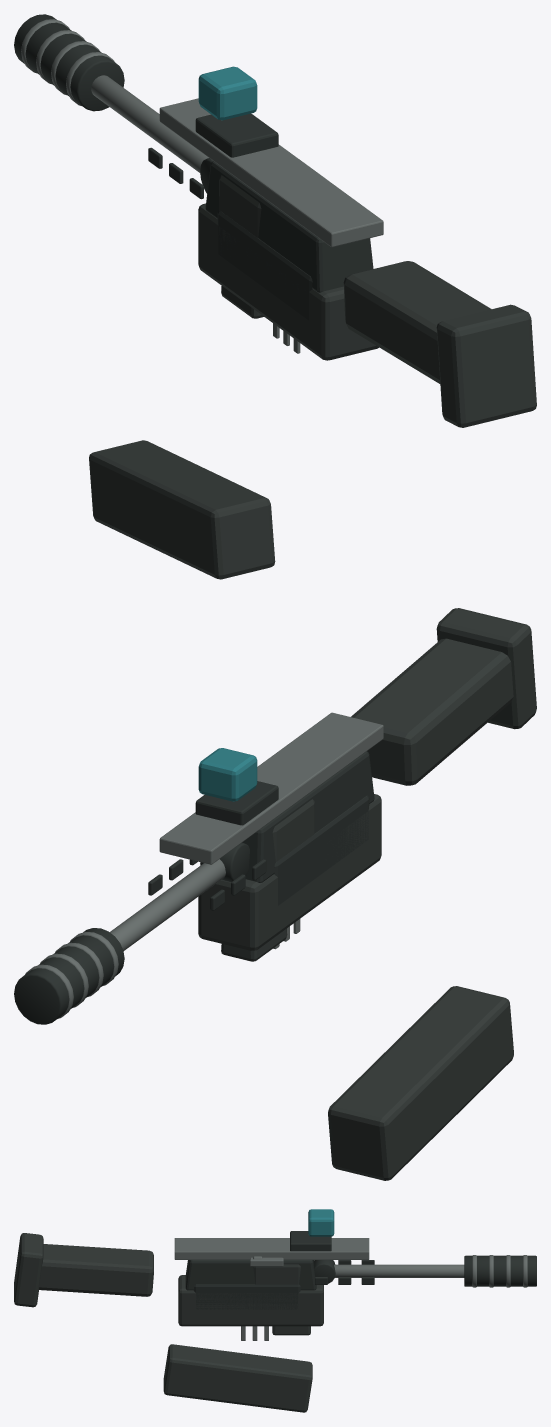
The picture shows the model from 3 angles, top to bottom: view 1: azimuth 30°, elevation 25°; view 2: azimuth 150°, elevation 25°; view 3: azimuth 270°, elevation 25°; orthographic projection. The views are drawn at different scales.
Visible parts, largest first — view 1: SpareMagazineBody, StockButt, StockBody, TopRail, MagazineBody, UpperReceiver, SuppressorBody, LowerReceiver, Barrel, OpticGlass, OpticRiser, Handguard; view 2: SpareMagazineBody, StockBody, TopRail, MagazineBody, SuppressorBody, StockButt, LowerReceiver, UpperReceiver, Barrel, OpticGlass, OpticRiser, Handguard (+2 smaller); view 3: SpareMagazineBody, StockBody, MagazineBody, TopRail, LowerReceiver, UpperReceiver, SuppressorBody, StockButt, Barrel, Handguard, OpticRiser, OpticGlass (+3 smaller).
Boxes of the visible parts, <box> form: SpareMagazineBody: <box>89,440,275,579</box>; StockButt: <box>436,304,536,427</box>; StockBody: <box>343,261,491,383</box>; TopRail: <box>159,98,383,247</box>; MagazineBody: <box>198,203,378,360</box>; UpperReceiver: <box>205,161,373,292</box>; SuppressorBody: <box>14,14,124,111</box>; LowerReceiver: <box>217,210,312,320</box>; Barrel: <box>91,75,208,172</box>; OpticGlass: <box>198,66,257,120</box>; OpticRiser: <box>195,113,278,157</box>; Handguard: <box>219,175,261,237</box>; SpareMagazineBody: <box>328,986,513,1180</box>; StockBody: <box>351,638,513,785</box>; TopRail: <box>159,712,383,864</box>; MagazineBody: <box>198,794,381,950</box>; SuppressorBody: <box>14,928,124,1024</box>; StockButt: <box>436,608,536,729</box>; LowerReceiver: <box>274,795,369,905</box>; UpperReceiver: <box>242,751,374,882</box>; Barrel: <box>110,859,225,950</box>; OpticGlass: <box>198,748,257,801</box>; OpticRiser: <box>195,781,278,825</box>; Handguard: <box>272,799,314,861</box>; SpareMagazineBody: <box>163,1344,312,1412</box>; StockBody: <box>39,1244,153,1296</box>; MagazineBody: <box>178,1275,323,1326</box>; TopRail: <box>174,1238,369,1259</box>; LowerReceiver: <box>193,1284,300,1309</box>; UpperReceiver: <box>185,1260,316,1290</box>; SuppressorBody: <box>464,1255,536,1286</box>; StockButt: <box>14,1233,43,1307</box>; Barrel: <box>334,1264,464,1277</box>; Handguard: <box>253,1264,300,1284</box>; OpticRiser: <box>290,1231,331,1251</box>; OpticGlass: <box>308,1209,334,1236</box>.
Size of the model in its own units: 0.475 by 0.9562 by 2.01.
